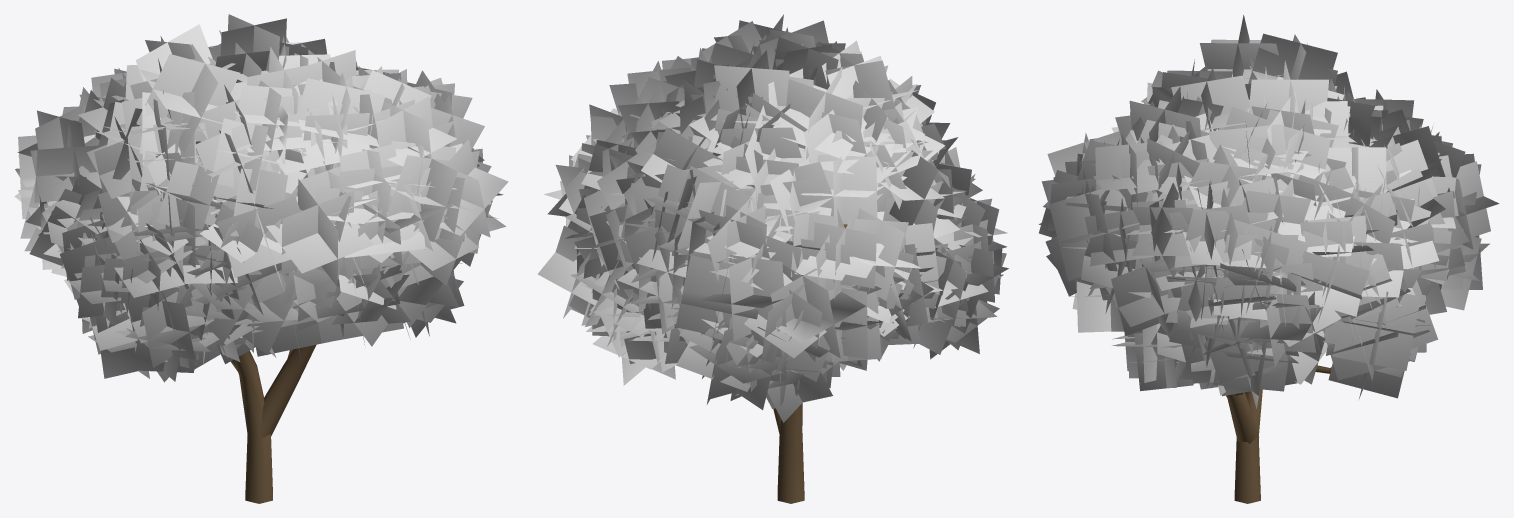
File: tree 2.fbx
The picture shows the model from 3 angles, left to right: view 1: azimuth 30°, elevation 25°; view 2: azimuth 150°, elevation 25°; view 3: azimuth 270°, elevation 25°; orthographic projection. The views are drawn at different scales.
Parts seen in each view (by area): view 1: leafafsafsafa.156, tree.002; view 2: leafafsafsafa.156, tree.002; view 3: leafafsafsafa.156, tree.002.
Part boxes in pixels (x1,y1,x2,y2): leafafsafsafa.156: (14, 14, 508, 382); tree.002: (230, 344, 316, 503); leafafsafsafa.156: (538, 14, 1008, 422); tree.002: (773, 224, 847, 503); leafafsafsafa.156: (1039, 15, 1499, 408); tree.002: (1226, 365, 1331, 503).
Size of the model in its own units: 569 by 605 by 573.
